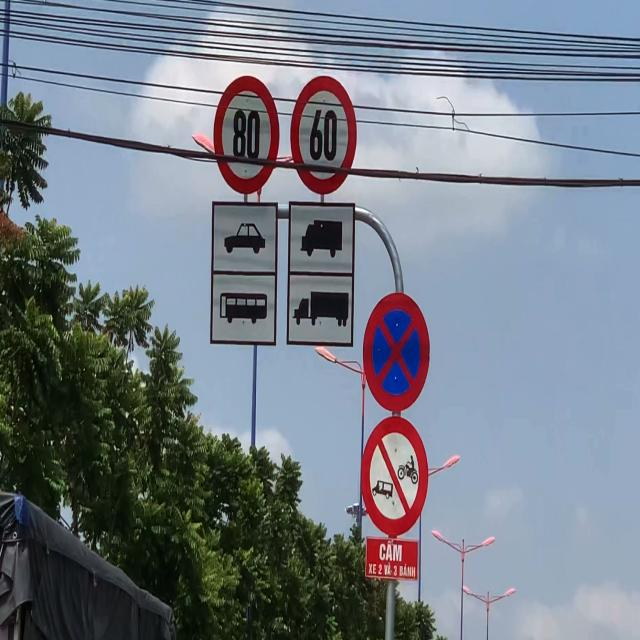Cam con lai: (360, 416, 429, 539)
Cam dung va do: (362, 286, 432, 414)
Toc do toi da: (288, 72, 359, 196), (212, 73, 281, 196)
